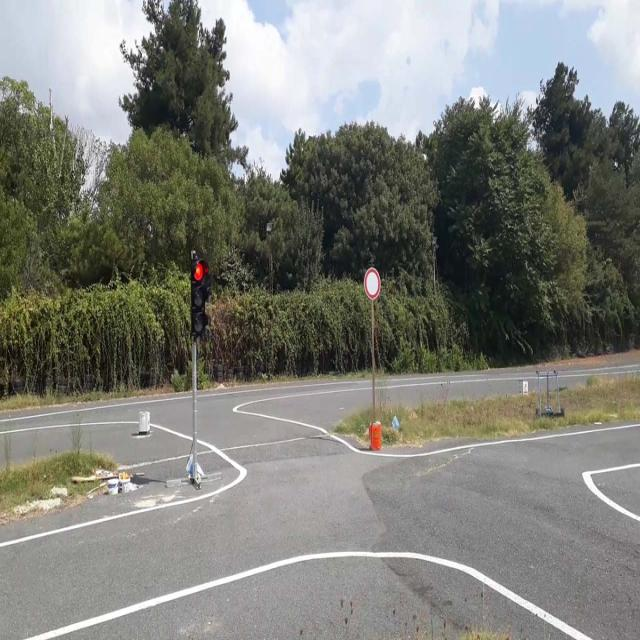kirmizi: (192, 258, 205, 335)
